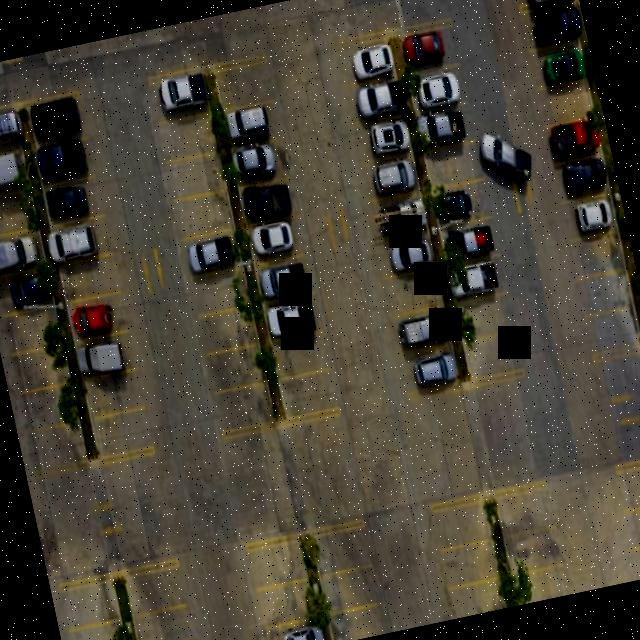car: (230, 128, 294, 192), (45, 212, 116, 268), (26, 88, 90, 149), (238, 170, 304, 228), (67, 287, 132, 345), (254, 248, 319, 306), (391, 303, 453, 363), (399, 18, 461, 78), (429, 175, 494, 232), (442, 250, 508, 306), (336, 30, 398, 89), (519, 0, 585, 54), (0, 261, 59, 321), (148, 68, 211, 124), (178, 227, 242, 282), (223, 100, 290, 152), (414, 99, 477, 154), (35, 136, 99, 190), (262, 290, 326, 344), (76, 329, 140, 383), (397, 346, 460, 400), (44, 178, 108, 230), (248, 217, 312, 269), (527, 38, 588, 92), (436, 216, 501, 266), (346, 75, 406, 129), (560, 193, 620, 247), (370, 193, 430, 246), (362, 152, 420, 204), (553, 156, 612, 207), (410, 69, 469, 117), (545, 118, 604, 166), (356, 117, 414, 163), (378, 235, 435, 281), (0, 223, 43, 282), (0, 148, 30, 204), (265, 612, 325, 640), (0, 105, 23, 164), (516, 0, 579, 16)
free: (4, 338, 74, 403), (54, 248, 126, 306), (25, 416, 89, 479), (276, 367, 342, 428), (214, 51, 278, 113), (90, 404, 156, 464), (213, 379, 277, 440), (461, 326, 525, 387), (452, 284, 516, 345), (16, 378, 80, 438), (124, 560, 188, 620), (432, 492, 492, 556), (59, 572, 120, 634), (419, 135, 485, 192), (185, 264, 252, 320), (247, 532, 309, 592), (494, 482, 556, 542), (268, 326, 330, 385), (576, 260, 635, 322), (312, 520, 374, 578), (171, 186, 233, 243), (0, 302, 63, 358), (163, 147, 226, 203), (318, 560, 381, 616), (204, 340, 266, 396), (82, 366, 146, 420), (584, 300, 640, 361), (441, 536, 502, 591), (196, 302, 258, 356), (158, 112, 218, 166), (504, 526, 566, 577), (256, 577, 316, 628), (569, 234, 627, 284), (448, 572, 507, 618), (536, 82, 594, 128), (512, 560, 572, 604), (387, 272, 444, 318), (133, 601, 197, 640), (327, 601, 387, 640), (67, 616, 128, 640), (617, 456, 640, 515), (625, 494, 640, 550)
